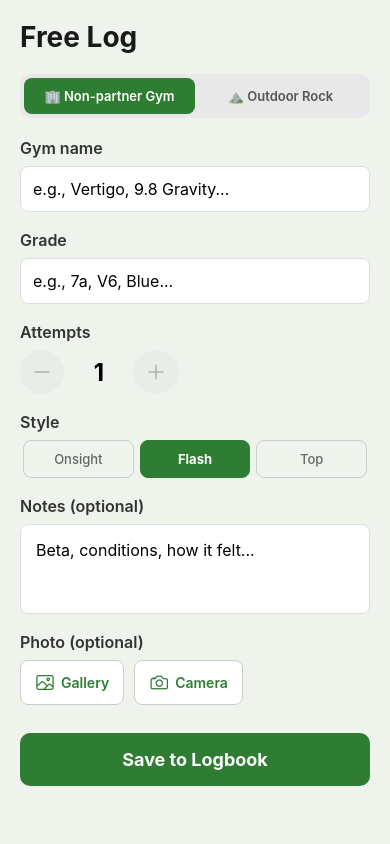
Test: FreeLogScreen - Testes Estáveis › toggles modes correctly
Click the text "⛰️ Outdoor Rock" at (281, 96), box 228,88 -> 333,104
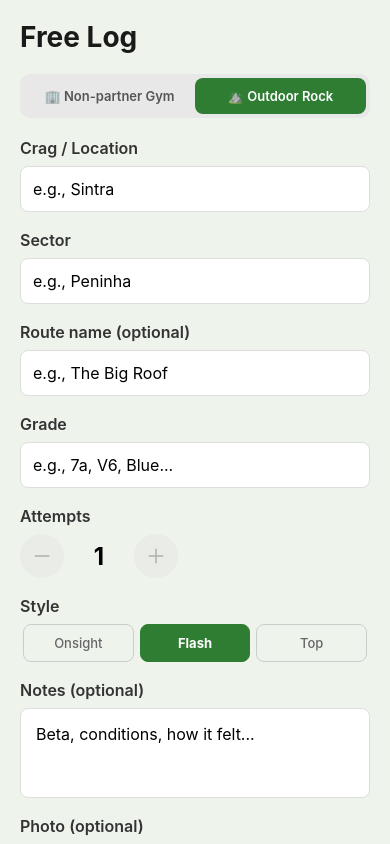
Expected: the field with placeholder "e.g., Vertigo, 9.8 Gravity..." is not shown
Result: the field with placeholder "e.g., Sintra" is shown at 20,166 -> 370,212
